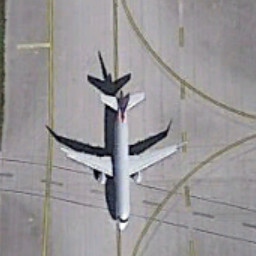Airplane: (52, 80, 195, 235)
